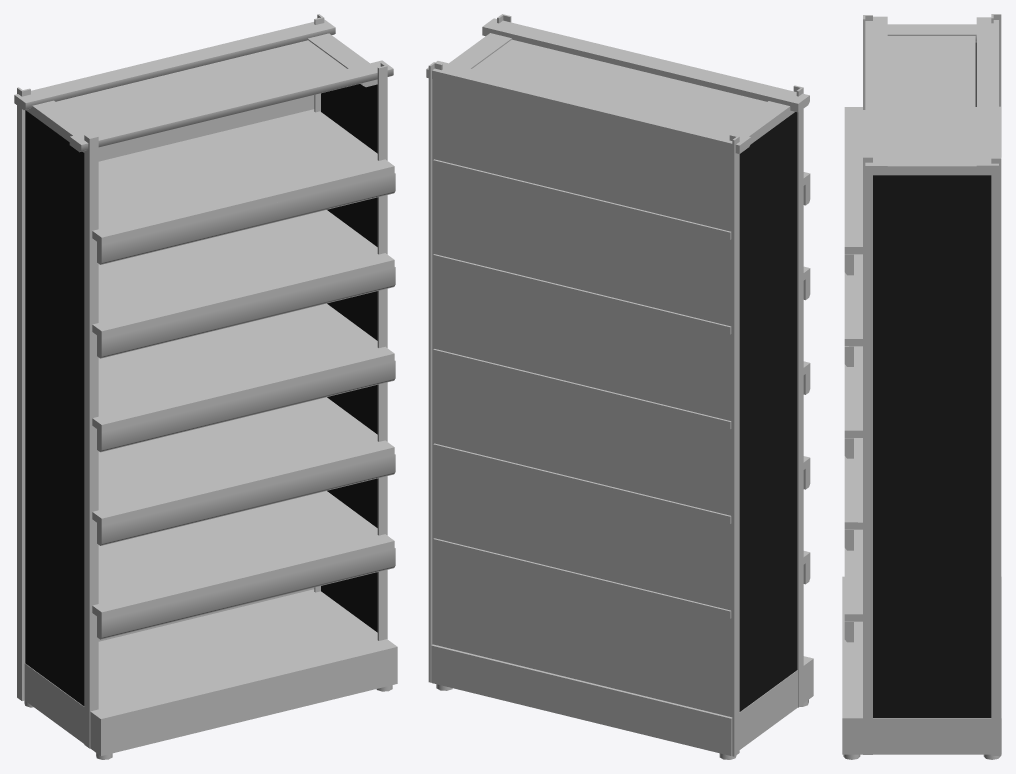
Rendered from SM_Shelving5.fbx.
The picture shows the model from 3 angles, left to right: view 1: azimuth 30°, elevation 25°; view 2: azimuth 150°, elevation 25°; view 3: azimuth 270°, elevation 25°; orthographic projection. The views are drawn at different scales.
Parts seen in each view (by area): view 1: SM_Shelving5_LOD0; view 2: SM_Shelving5_LOD0; view 3: SM_Shelving5_LOD0.
Boxes of the visible parts, left/top/right/bottom form: SM_Shelving5_LOD0: left=14, top=14, right=397, bottom=759; SM_Shelving5_LOD0: left=426, top=14, right=813, bottom=759; SM_Shelving5_LOD0: left=842, top=14, right=1001, bottom=759.
Size of the model in its own units: 105 by 47.23 by 197.
